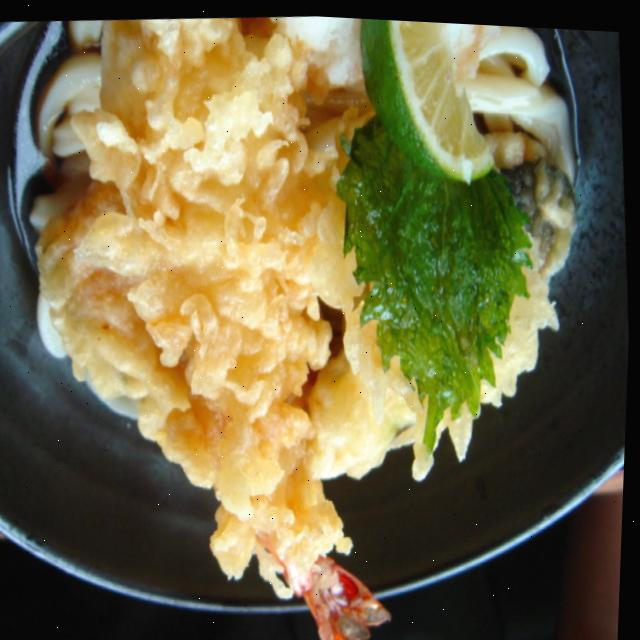面条主食: (0, 1, 630, 640)
